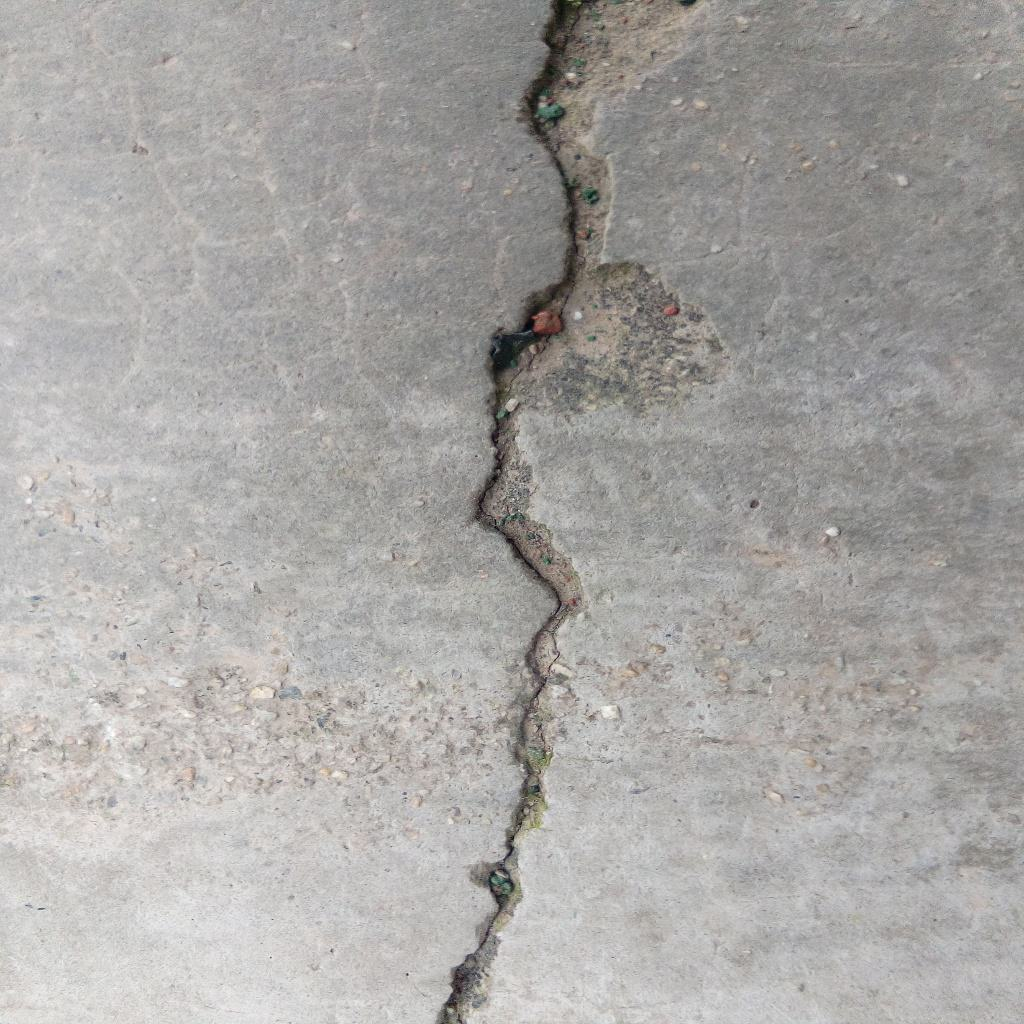Crack: (433, 425, 586, 1024)
Spalling: (485, 1, 728, 426)
